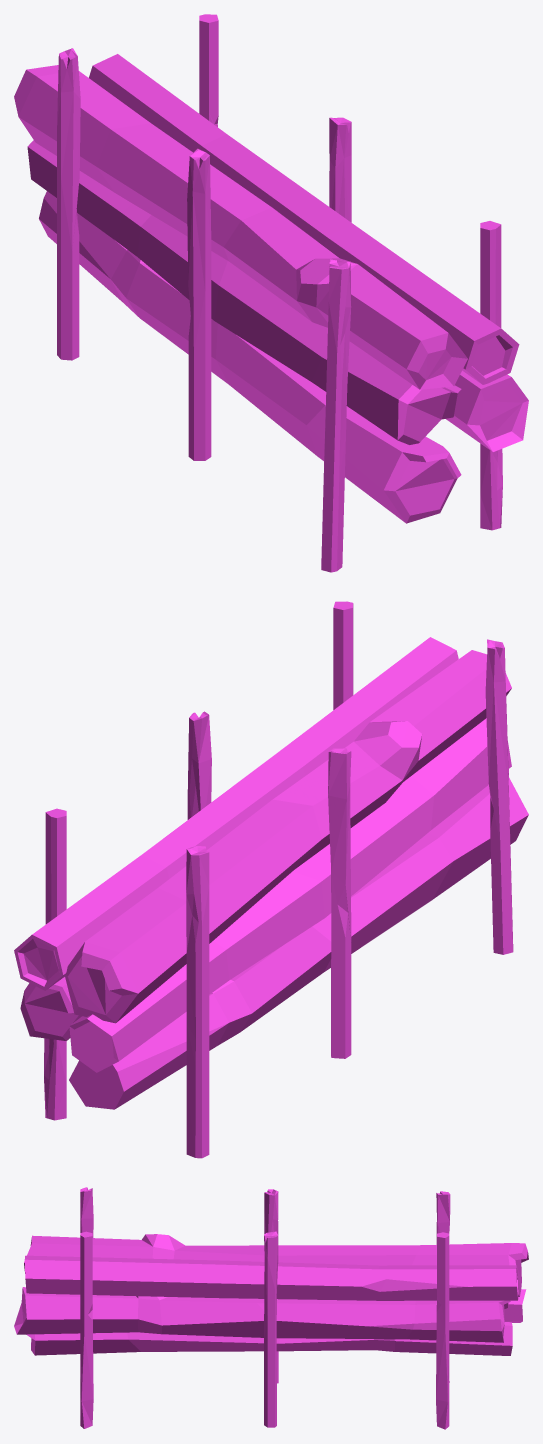
Rendered from SM_Wood_Logs_Stacked_Fantasy.fbx.
The picture shows the model from 3 angles, top to bottom: view 1: azimuth 30°, elevation 25°; view 2: azimuth 150°, elevation 25°; view 3: azimuth 270°, elevation 25°; orthographic projection. The views are drawn at different scales.
Visible parts, largest first — view 1: SM_Wood_Logs_Stacked_Fantasy; view 2: SM_Wood_Logs_Stacked_Fantasy; view 3: SM_Wood_Logs_Stacked_Fantasy.
Boxes of the visible parts, x1,y1,x2,y2 form: SM_Wood_Logs_Stacked_Fantasy: (14,14,528,572); SM_Wood_Logs_Stacked_Fantasy: (14,601,528,1158); SM_Wood_Logs_Stacked_Fantasy: (14,1187,528,1429).
Bounding box in the file's own units: 1.39 × 2.25 × 5.47.
